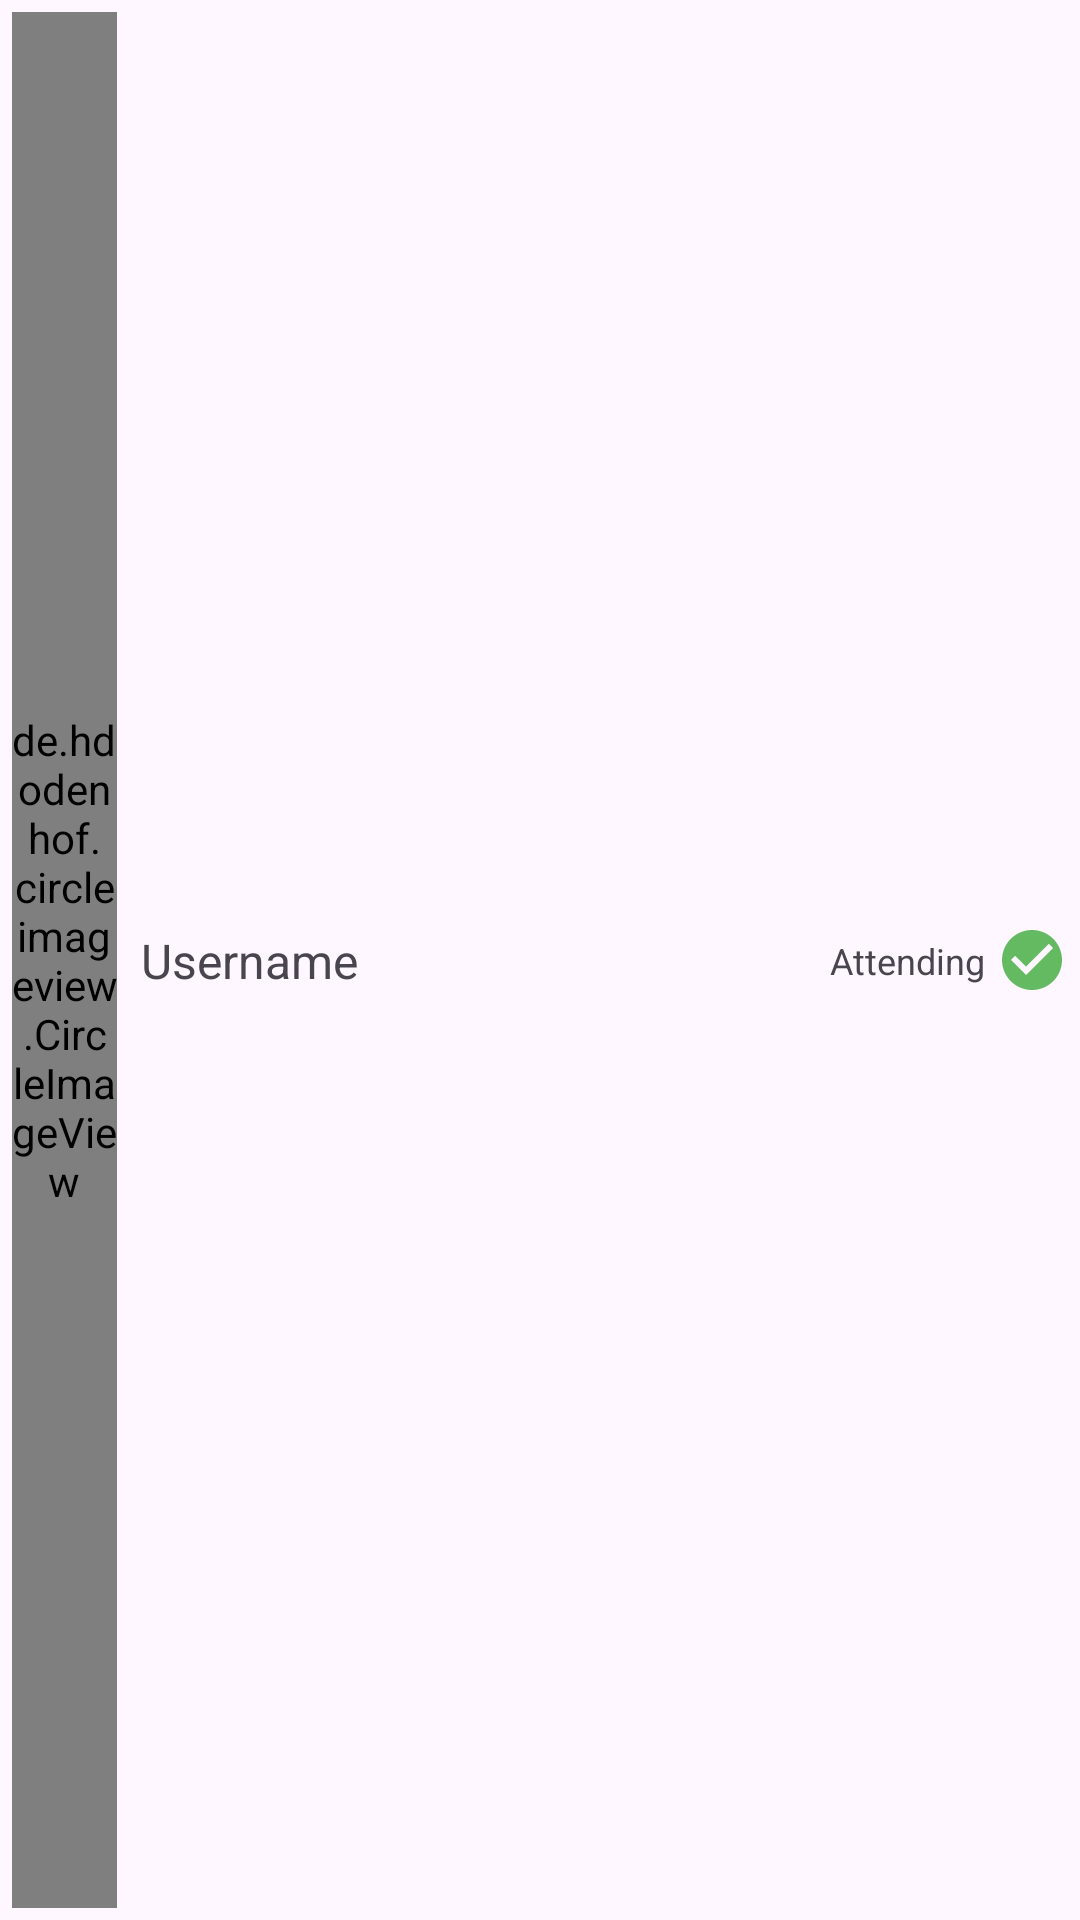

Icons on this 1080 x 1920 Android screen, each with its box as (x1, y1, x2, y2):
check circle: (1002, 930, 1062, 990)
